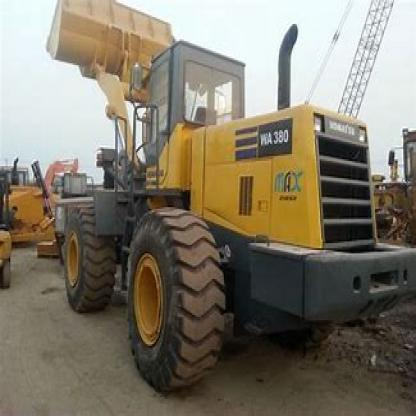bull_dozer/loader/grader: (30, 0, 414, 395)
